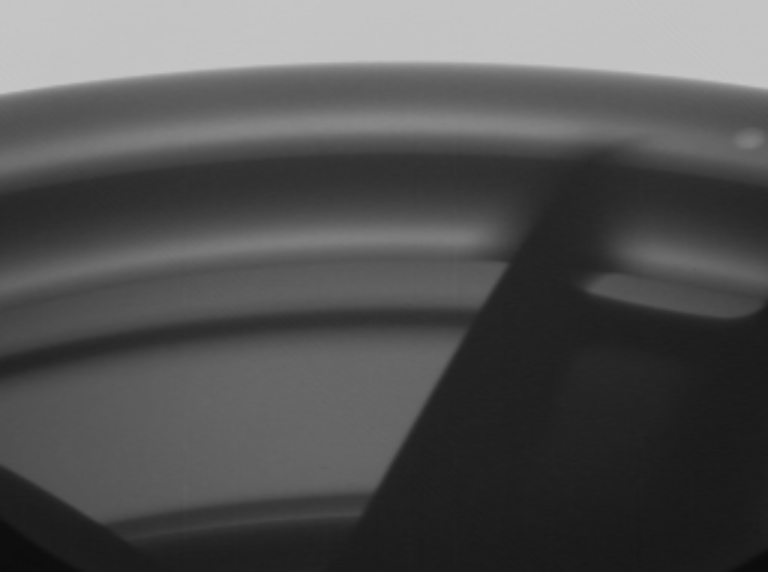defect: (732, 121, 768, 156)
